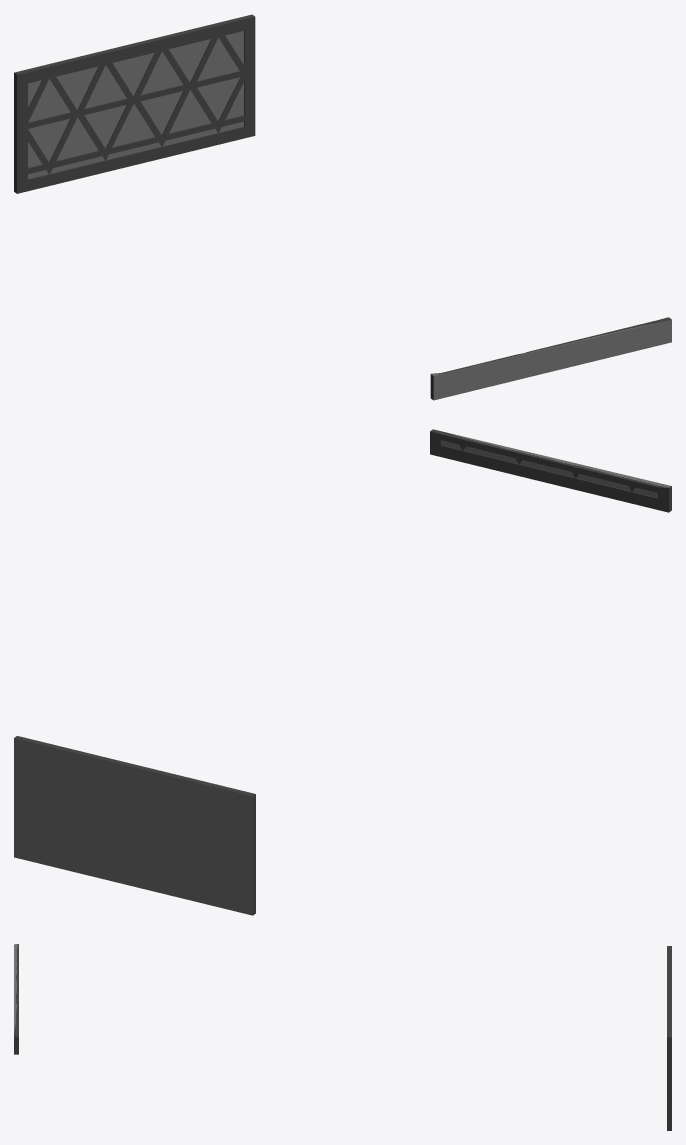
Rendered from Hangar Tore.fbx.
3 views of the same model, one above another, from view 1: azimuth 30°, elevation 25°; view 2: azimuth 150°, elevation 25°; view 3: azimuth 270°, elevation 25° (orthographic). The views are drawn at different scales.
Parts seen in each view (by area): view 1: Hangar Tor 2 (Einfahrt).001, Hangar Tor 2 (Einfahrt).002; view 2: Hangar Tor 2 (Einfahrt).001, Hangar Tor 2 (Einfahrt).002; view 3: Hangar Tor 2 (Einfahrt).001, Hangar Tor 2 (Einfahrt).002.
Part boxes in pixels (x1,y1,x2,y2): Hangar Tor 2 (Einfahrt).001: (14, 14, 255, 193); Hangar Tor 2 (Einfahrt).002: (430, 317, 671, 400); Hangar Tor 2 (Einfahrt).001: (14, 736, 255, 915); Hangar Tor 2 (Einfahrt).002: (430, 429, 671, 512); Hangar Tor 2 (Einfahrt).001: (667, 946, 671, 1130); Hangar Tor 2 (Einfahrt).002: (14, 944, 18, 1054).
Bounding box in the file's own units: 2208 × 1075 × 6696.
